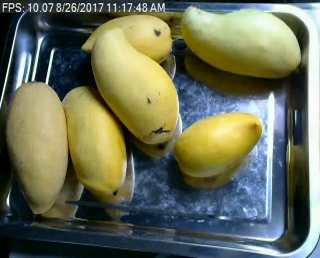Mango: (93, 27, 179, 145), (182, 6, 300, 78), (5, 82, 69, 213), (64, 87, 125, 195), (176, 112, 262, 178), (84, 13, 172, 64)
